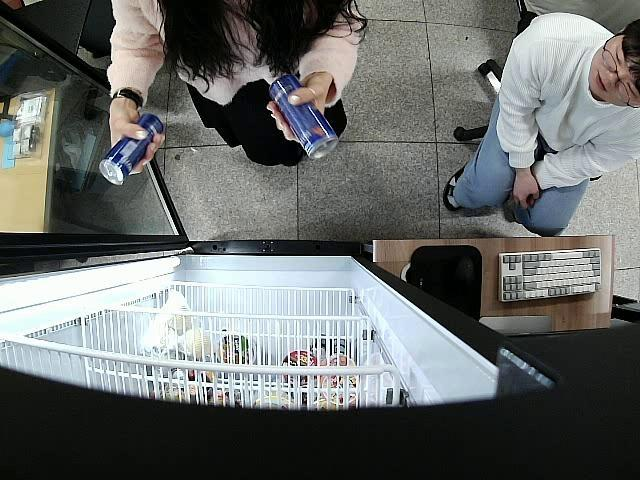16_hot6: (270, 75, 338, 161), (97, 114, 164, 188)
